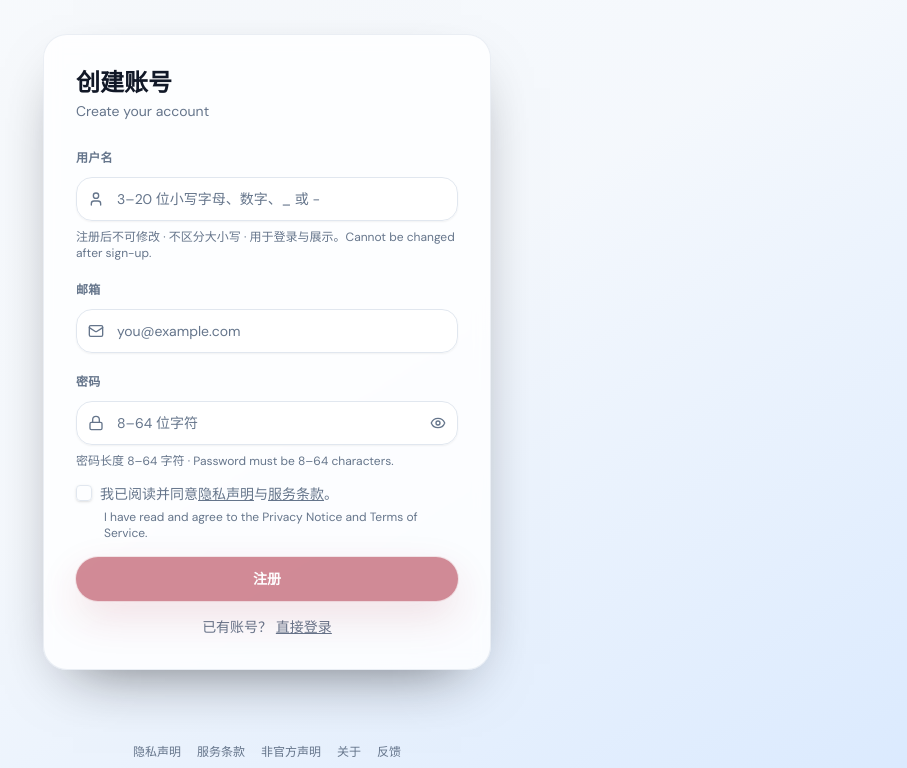
RegisterPage › surfaces the registration-closed message inline when the flag is off
The width and height of the screenshot is (907, 768).
Type "newuser" into the field with placeholder "3–20 位小写字母、数字、_ 或 -" at (267, 199), box [76,177,458,221]
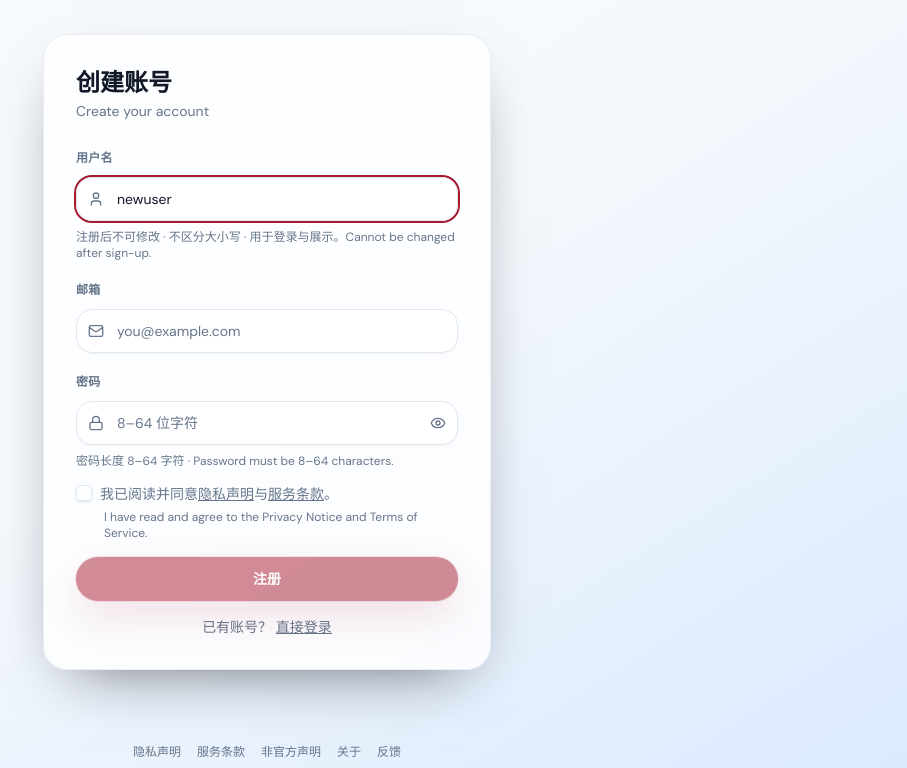
Type "newuser@example.com" into the field with placeholder "you@example.com" at (267, 331), box [76,309,458,353]
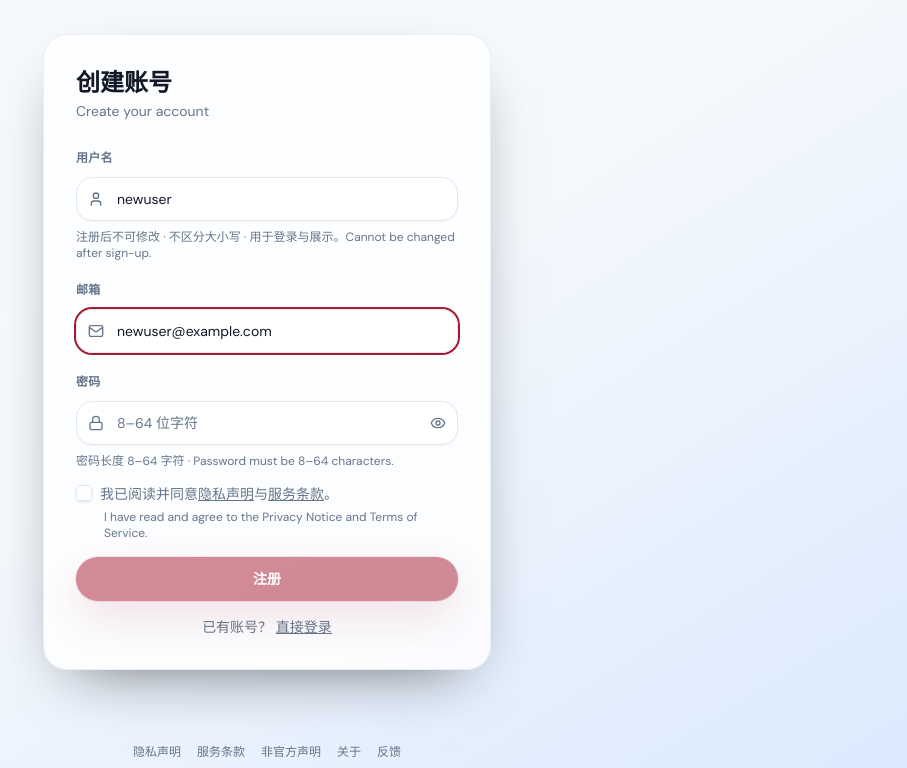
Type "password123" into the password field with placeholder "8–64 位字符" at (267, 423), box [76,401,458,445]
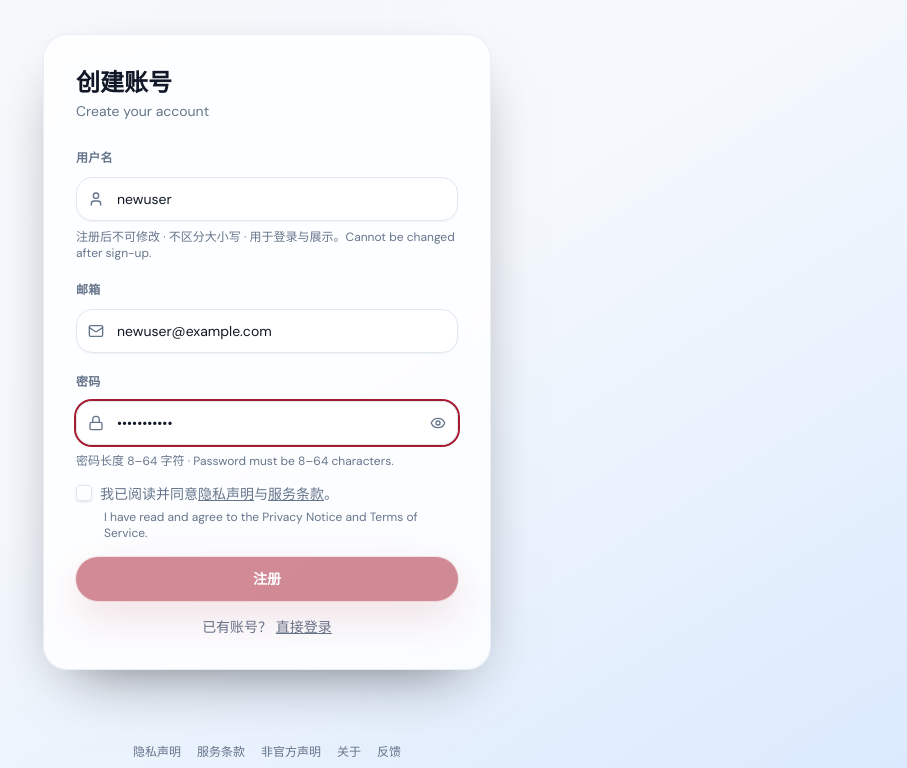
Click the checkbox at (84, 493), box [76,485,92,501]
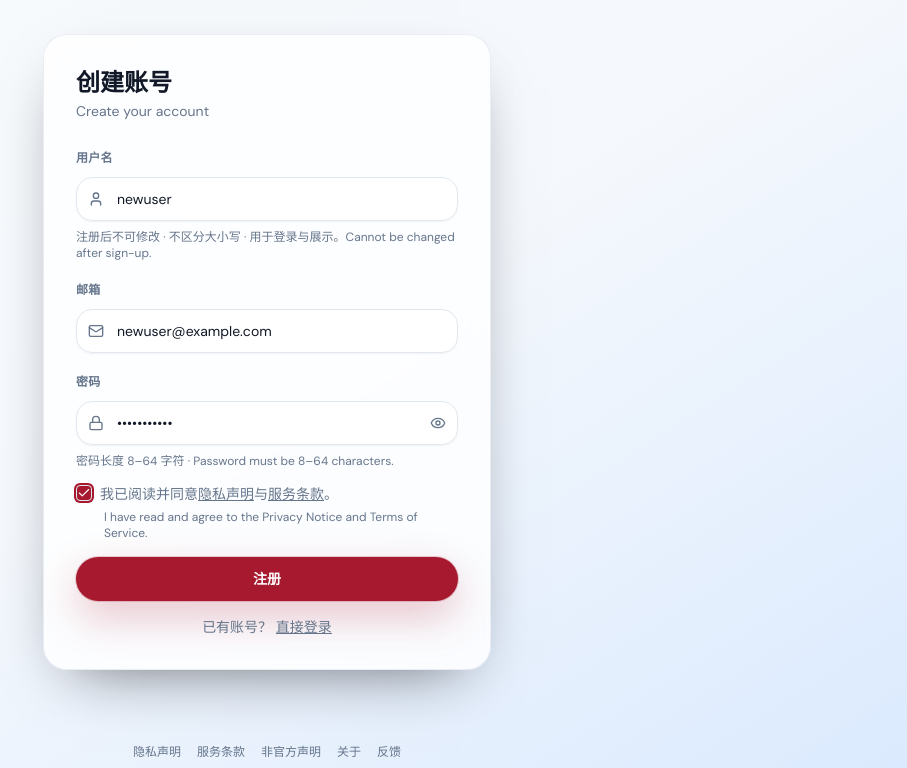
Click the button "注册" at (267, 579), box [76,557,458,601]
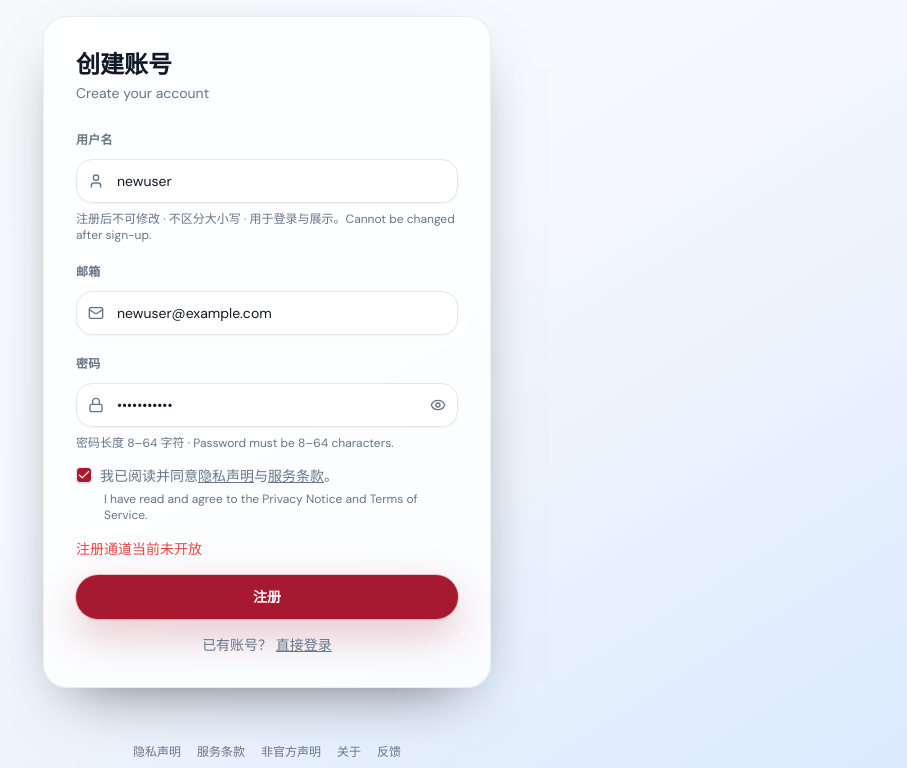
Expected: the text "注册通道当前未开放" is shown, [76,540,202,558]
